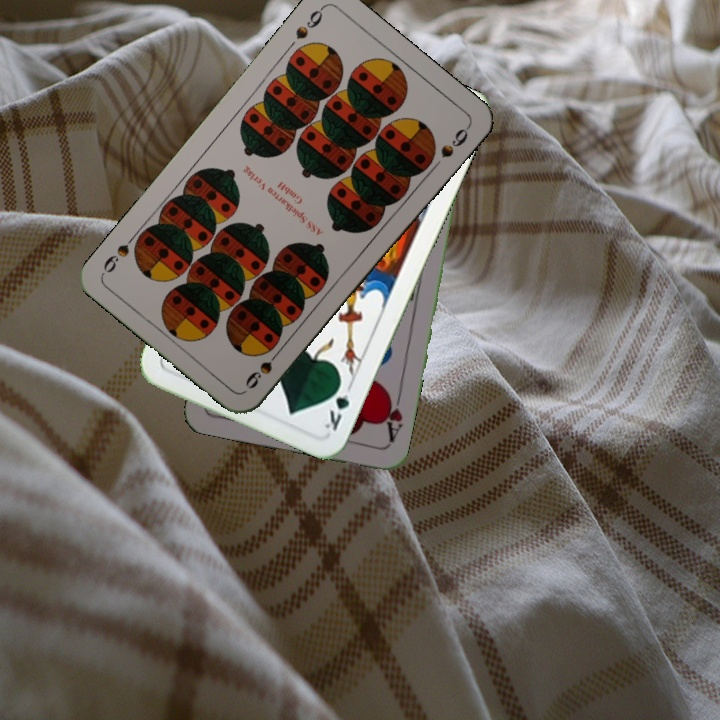GK: (320, 376, 355, 434)
HA: (378, 388, 405, 447)
S9: (240, 343, 285, 392), (291, 2, 327, 42)
